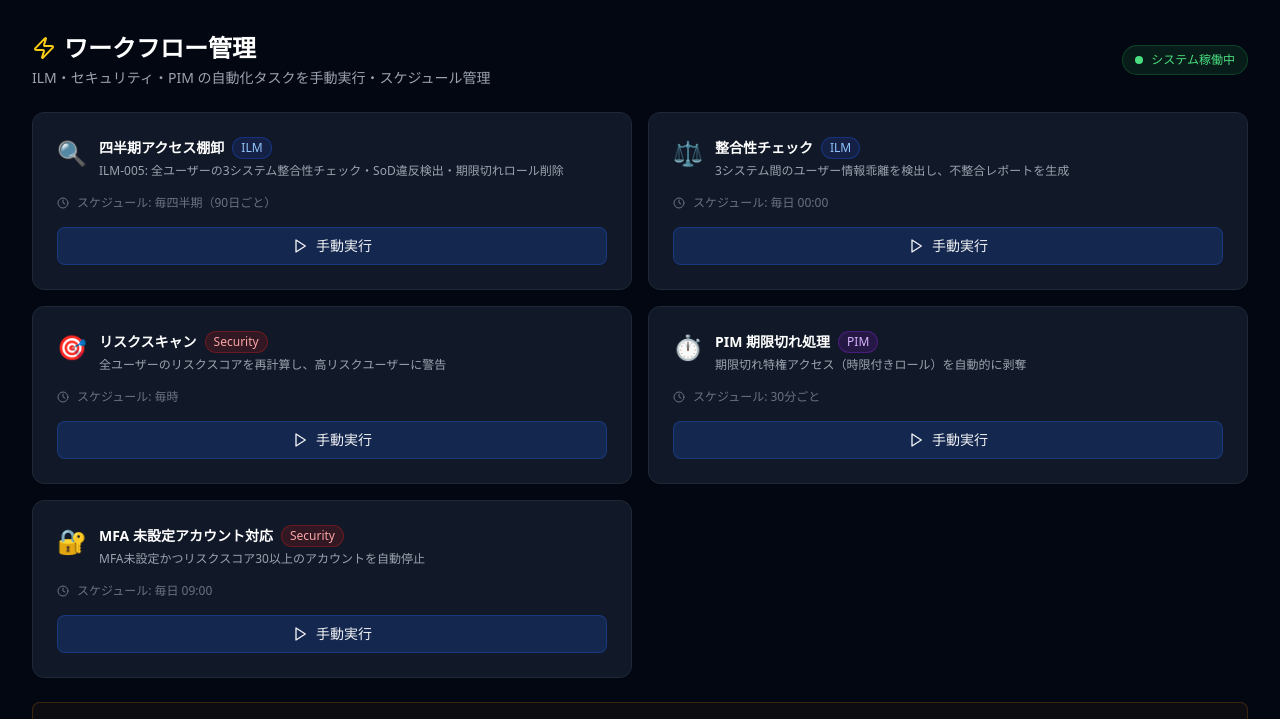
WorkflowsPage › 非 Error オブジェクト reject 時にフォールバックメッセージ表示（line 100）
What coordinates should you click on to do the following:
click the button "手動実行" below "毎四半期（90日ごと）"
I would click on:
 (332, 246)
Its box is left=57, top=227, right=607, bottom=265.
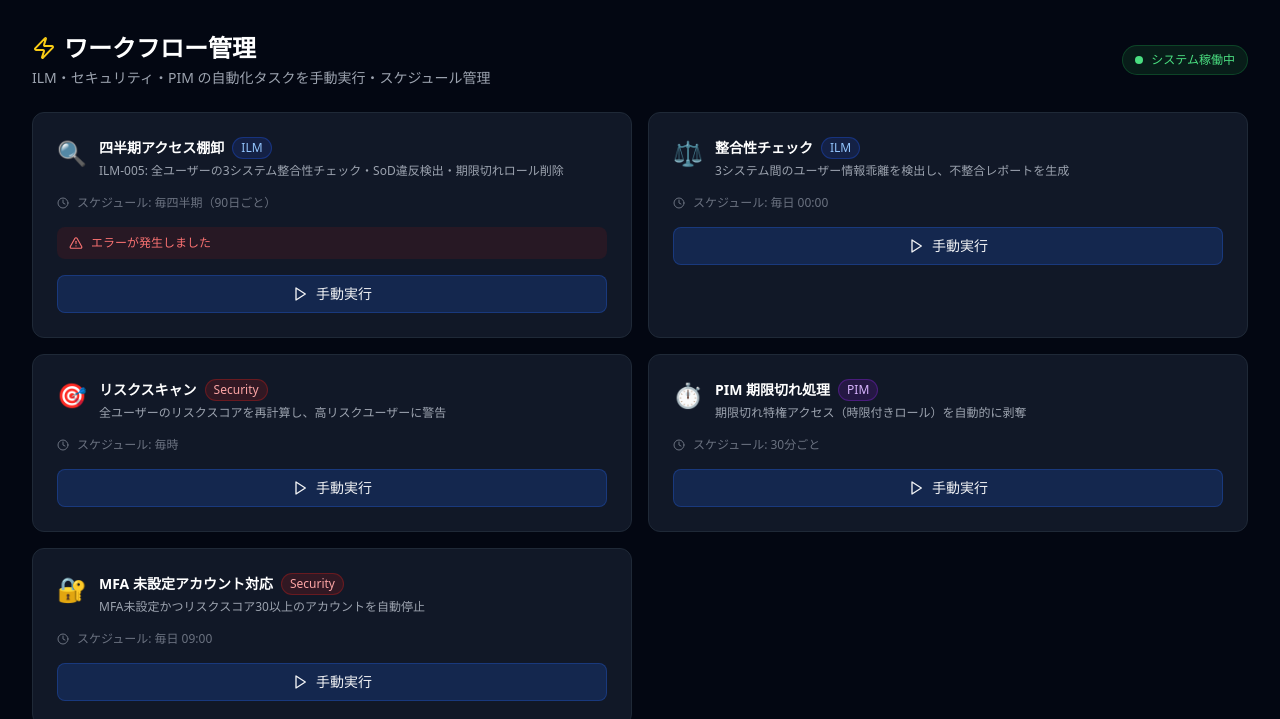
Expected: the text "エラーが発生しました" is shown, left=57, top=227, right=607, bottom=259
